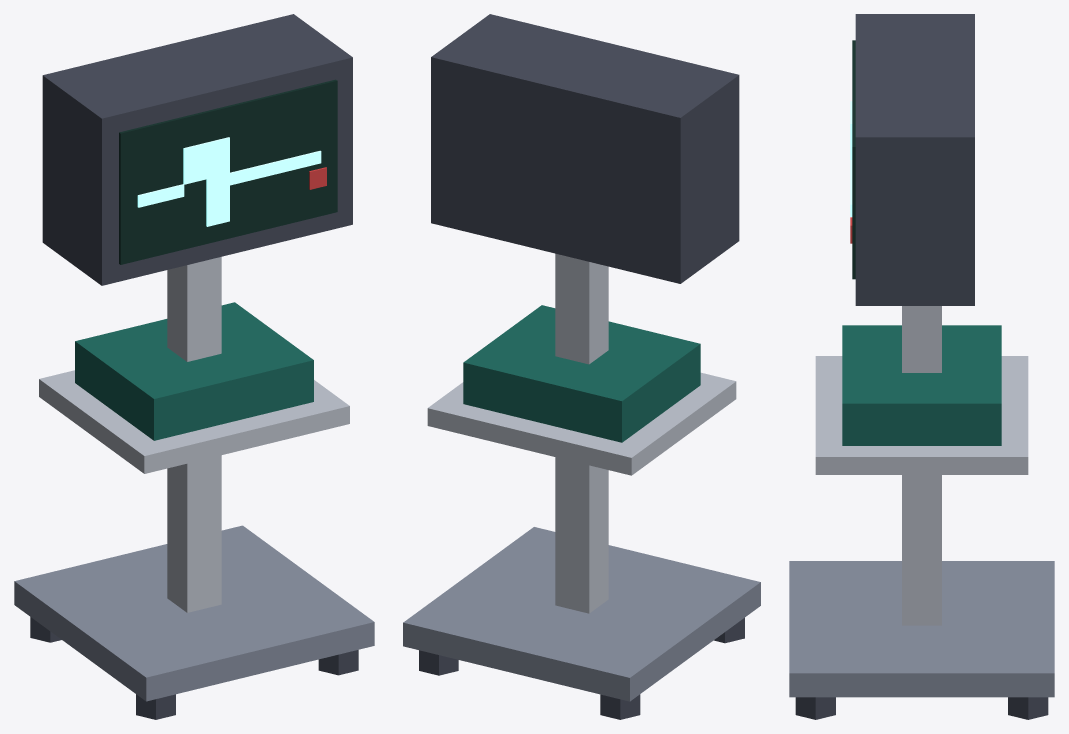
File: vitals-monitor.glb
The picture shows the model from 3 angles, left to right: view 1: azimuth 30°, elevation 25°; view 2: azimuth 150°, elevation 25°; view 3: azimuth 270°, elevation 25°; orthographic projection.
Parts seen in each view (by area): view 1: vitals-monitor; view 2: vitals-monitor; view 3: vitals-monitor.
Boxes of the visible parts, bbox=[...] form: vitals-monitor: bbox=[14, 14, 374, 719]; vitals-monitor: bbox=[403, 14, 760, 719]; vitals-monitor: bbox=[789, 14, 1054, 719].
Bounding box in the file's own units: 0.44 × 0.98 × 0.4.
Materials: 1 (1 with a texture image).
